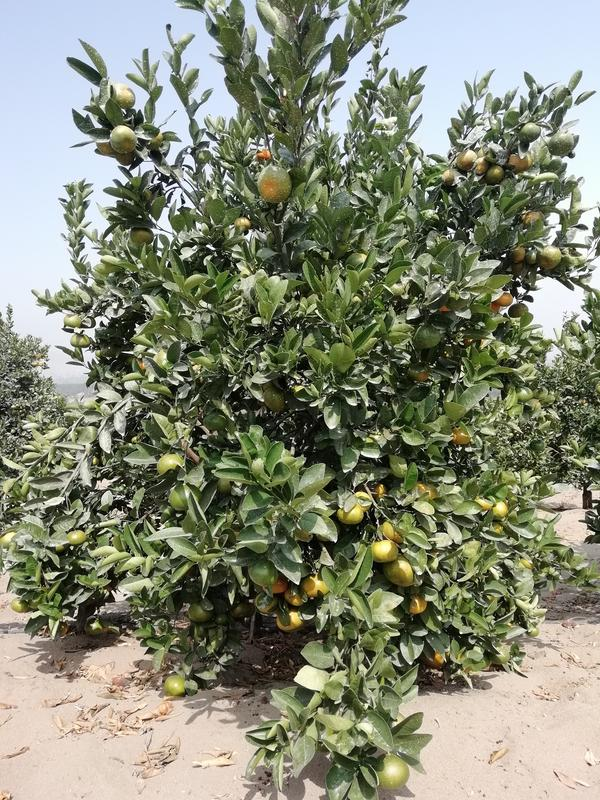mandarina naranja: (497, 293, 513, 306)
mandarina verde: (373, 752, 410, 790), (257, 164, 291, 204), (384, 555, 414, 587), (170, 483, 202, 511), (247, 559, 278, 587), (109, 125, 137, 153), (548, 131, 574, 156), (372, 540, 398, 563), (110, 84, 136, 107), (156, 454, 183, 475), (163, 673, 186, 697), (539, 246, 561, 268), (338, 506, 364, 524), (203, 413, 229, 431), (457, 149, 479, 169), (519, 122, 541, 141), (130, 227, 155, 243), (485, 166, 504, 183), (70, 332, 90, 348), (64, 313, 85, 328), (67, 530, 87, 544), (11, 598, 29, 613)
